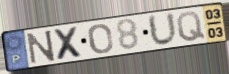8: (115, 18, 143, 53)
N: (25, 28, 57, 66)
O: (86, 23, 115, 55)
Q: (175, 10, 207, 43)
U: (146, 11, 179, 48)
X: (52, 25, 86, 62)
